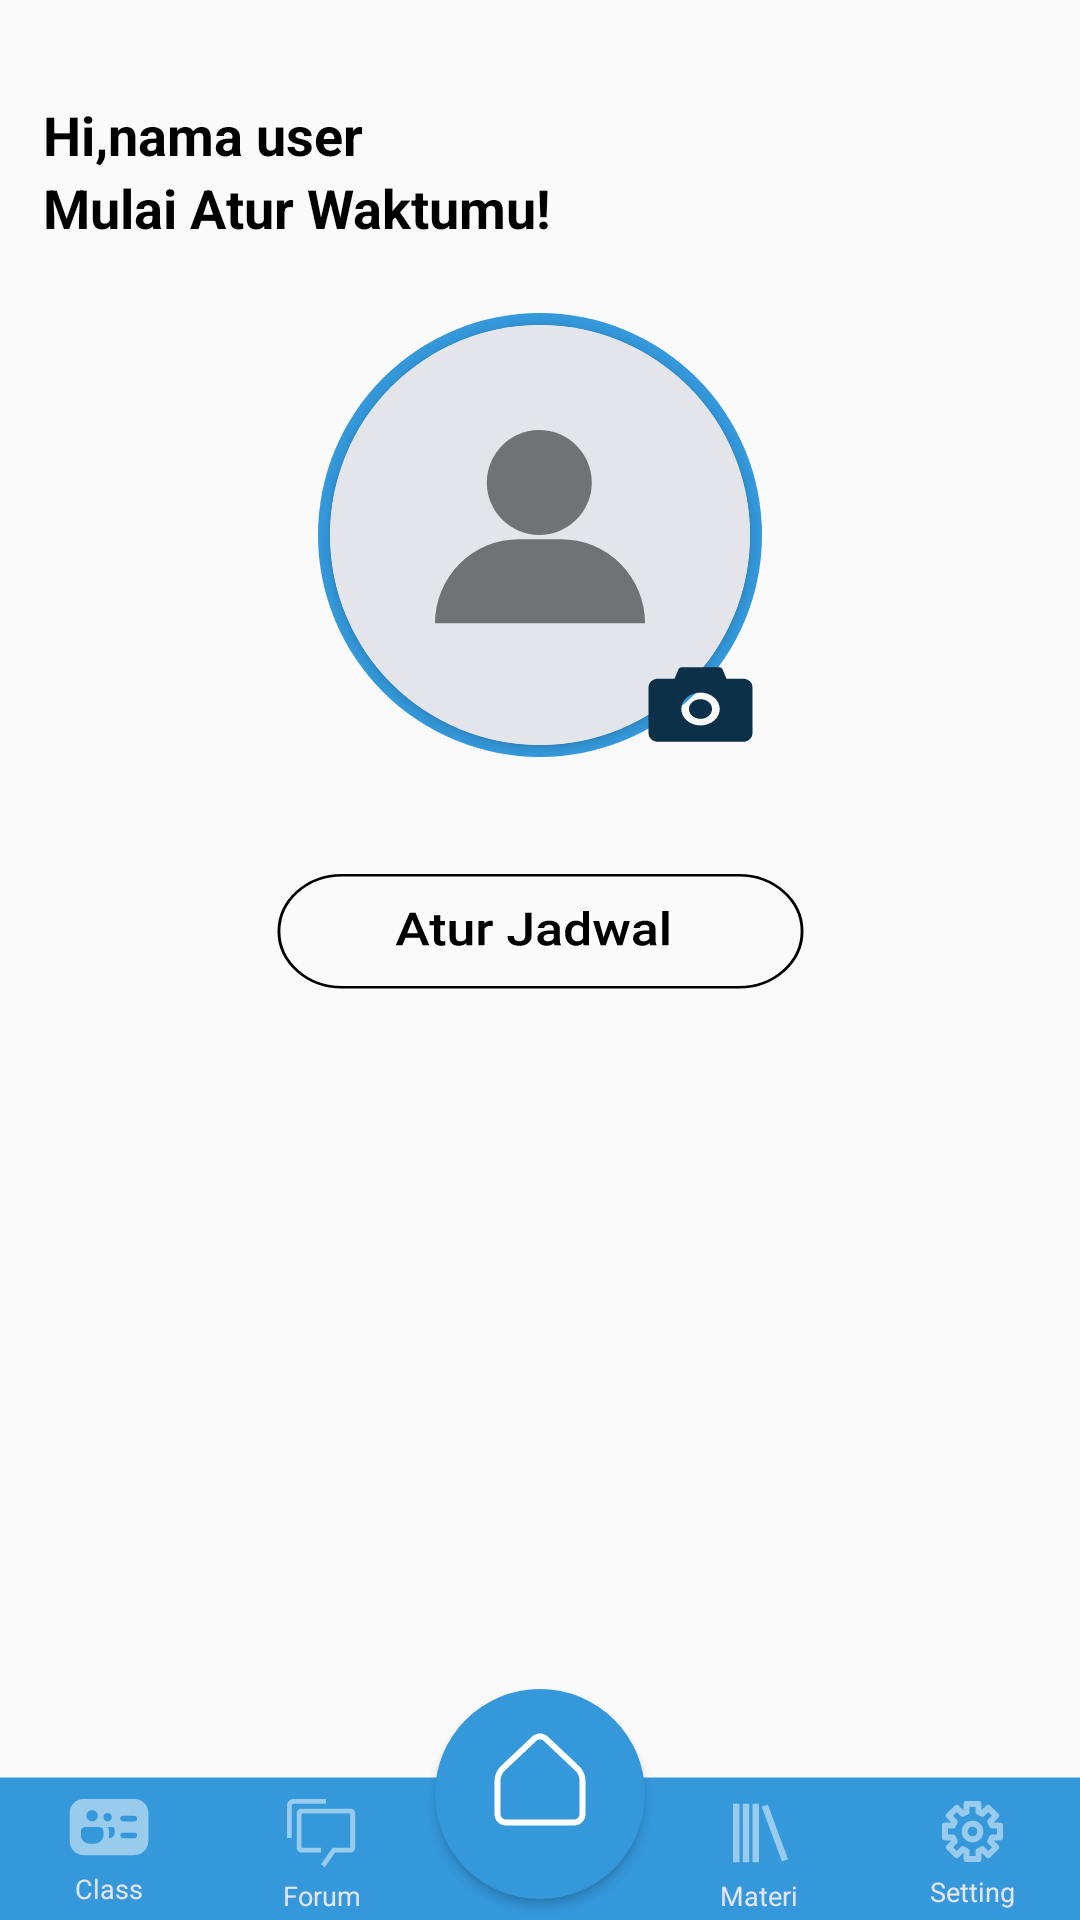

Screen size 1080px×1920px. Icon name, then its center in pixels as (x=x, y=y):
home round: (x=540, y=1794)
